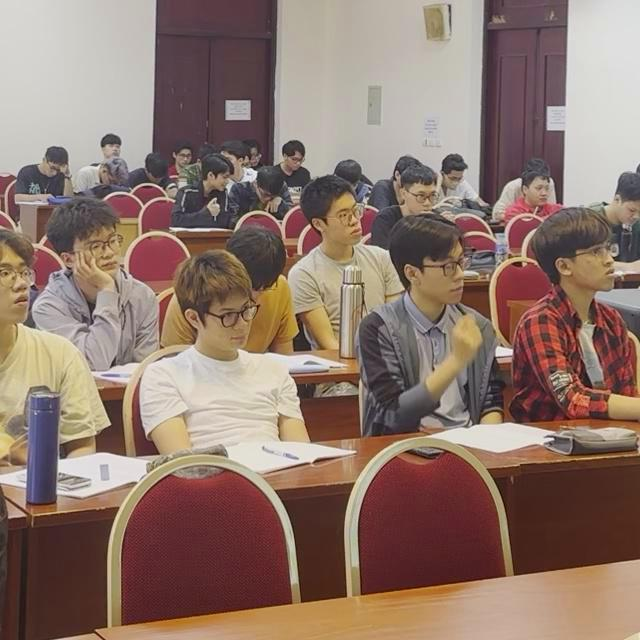Looking away: (207, 227, 296, 300), (602, 165, 637, 246), (86, 150, 134, 206), (30, 135, 78, 189), (430, 146, 473, 204), (319, 155, 366, 201), (252, 174, 296, 220), (236, 129, 276, 173), (279, 130, 314, 171), (207, 150, 238, 196), (139, 148, 171, 191), (173, 137, 198, 174)
Looking forward: (402, 220, 469, 331), (179, 284, 269, 362), (301, 181, 364, 259), (0, 231, 53, 316), (78, 199, 127, 288), (395, 159, 446, 216), (585, 235, 616, 290), (416, 179, 458, 216), (520, 174, 554, 209), (103, 133, 133, 165)
